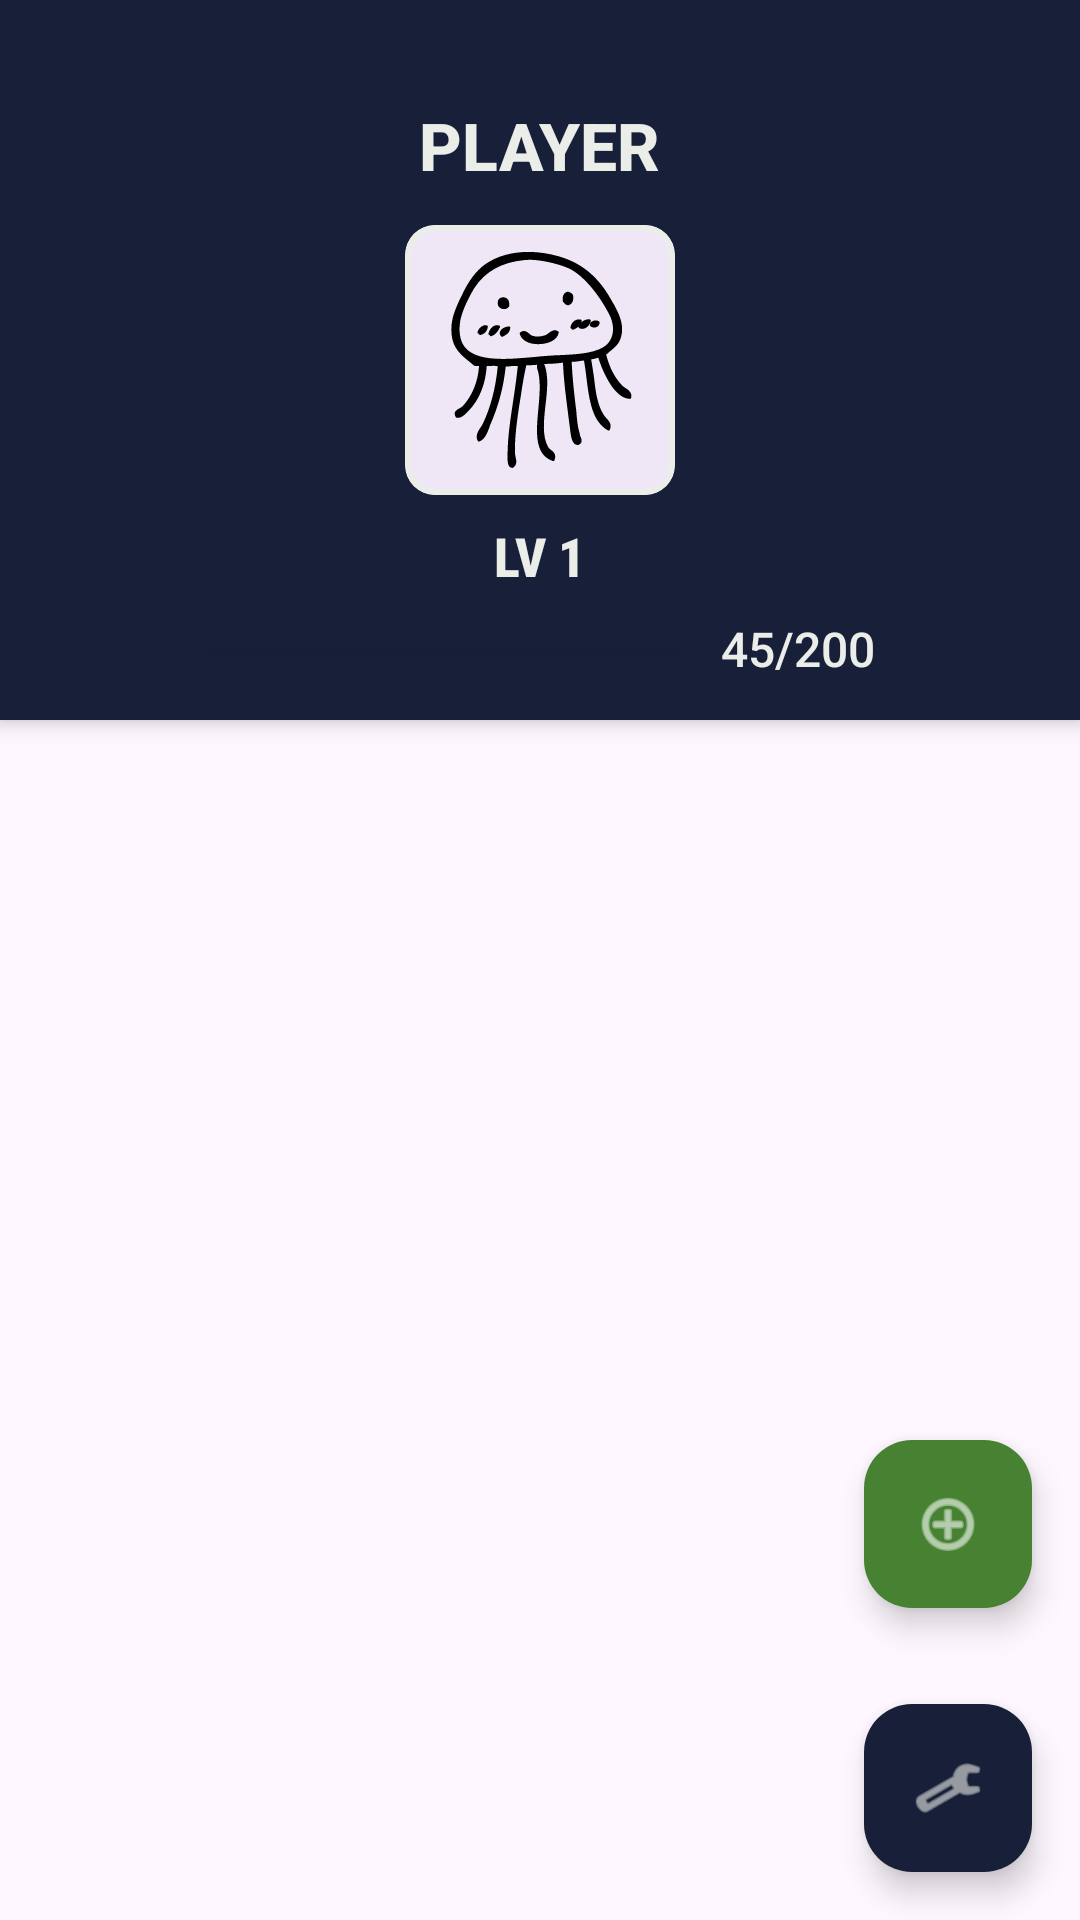

Named icons in this screenshot (1080 × 1920) and their bounding boxes, (x1, y1, x2, y2):
profile picture: (405, 225, 675, 495)
